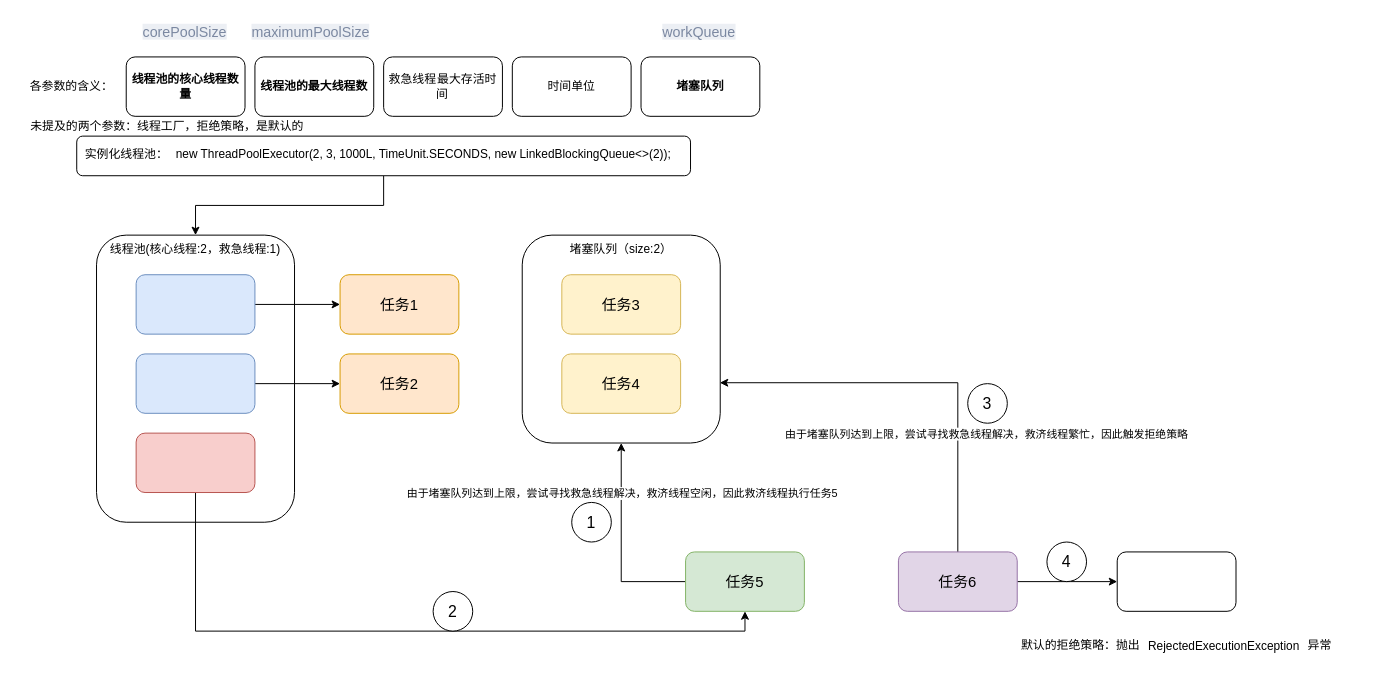
Image size: 1381x677. Some labels were removed from this diagram. Each missing label, with the centre of its shape:
"拒绝策略" goes at (1176,581).
"救急线程1" goes at (195,462).
"核心线程1" goes at (195,304).
"核心线程2" goes at (195,383).
